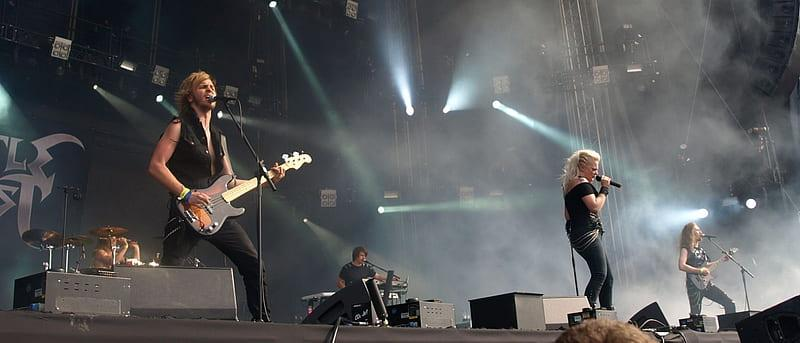acousticguitar: (179, 145, 314, 235), (688, 244, 737, 284)
